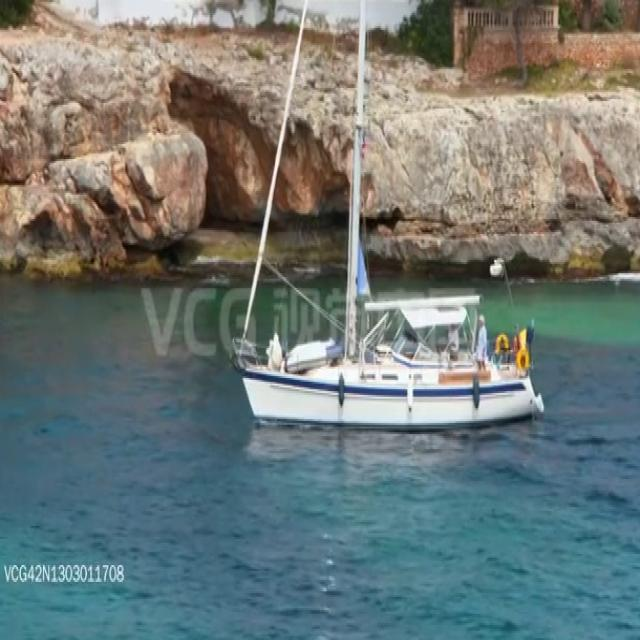sailboat: (226, 0, 542, 429)
